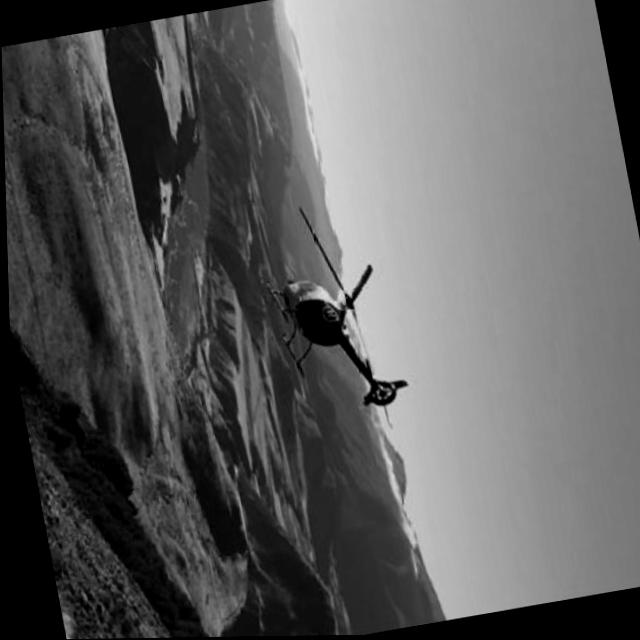helikopter: (248, 183, 419, 460)
